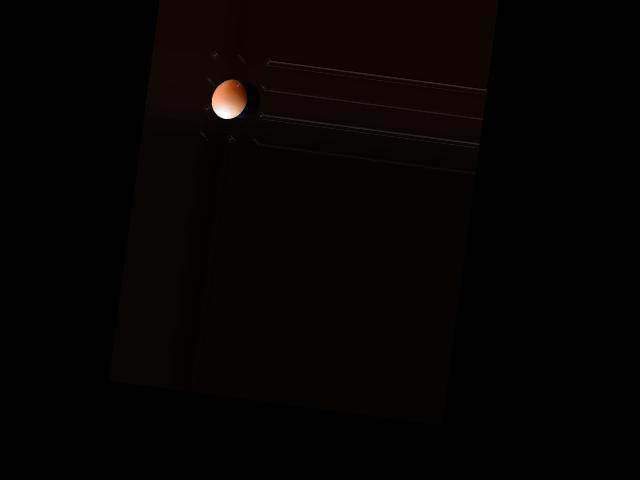egg: (209, 76, 250, 121)
